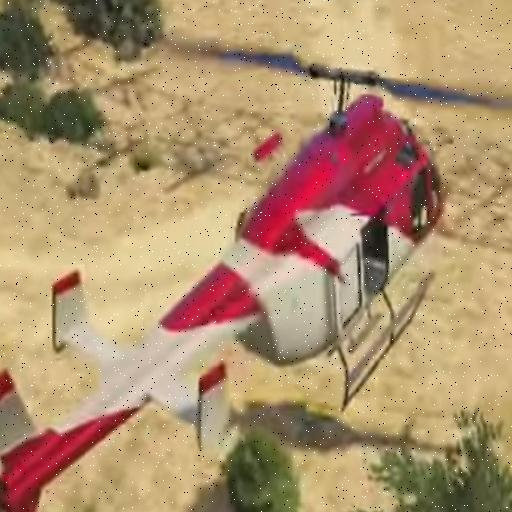helicopter: (1, 35, 488, 512)
